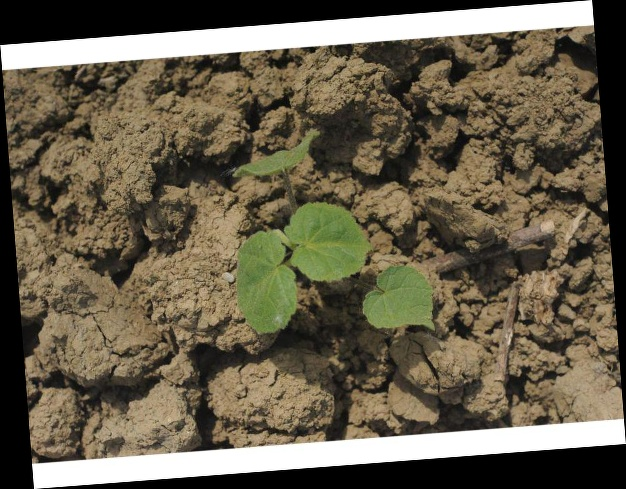velvet: (233, 136, 428, 342)
